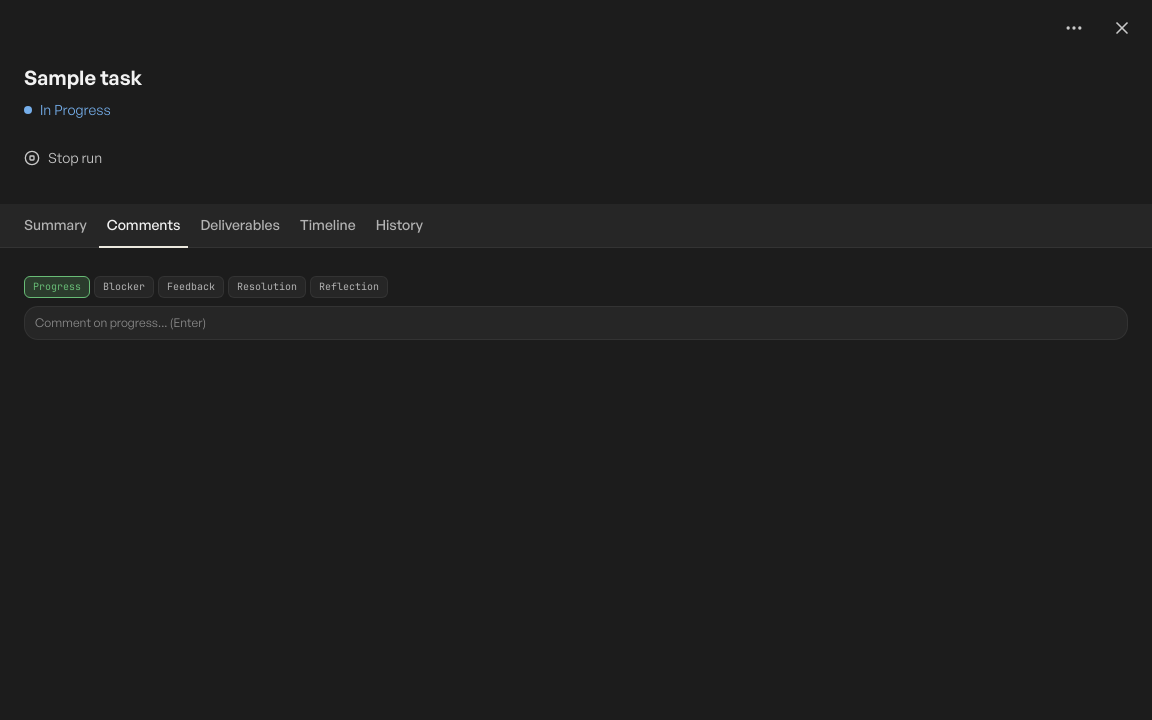
header variant A (DESIGN.md K12) › ⋯ Change status opens the Summary tab with the status menu open
This screenshot has width=1152, height=720.
Step 1. Click the button named "More actions" → (1074, 28), box left=1052, top=6, right=1096, bottom=50
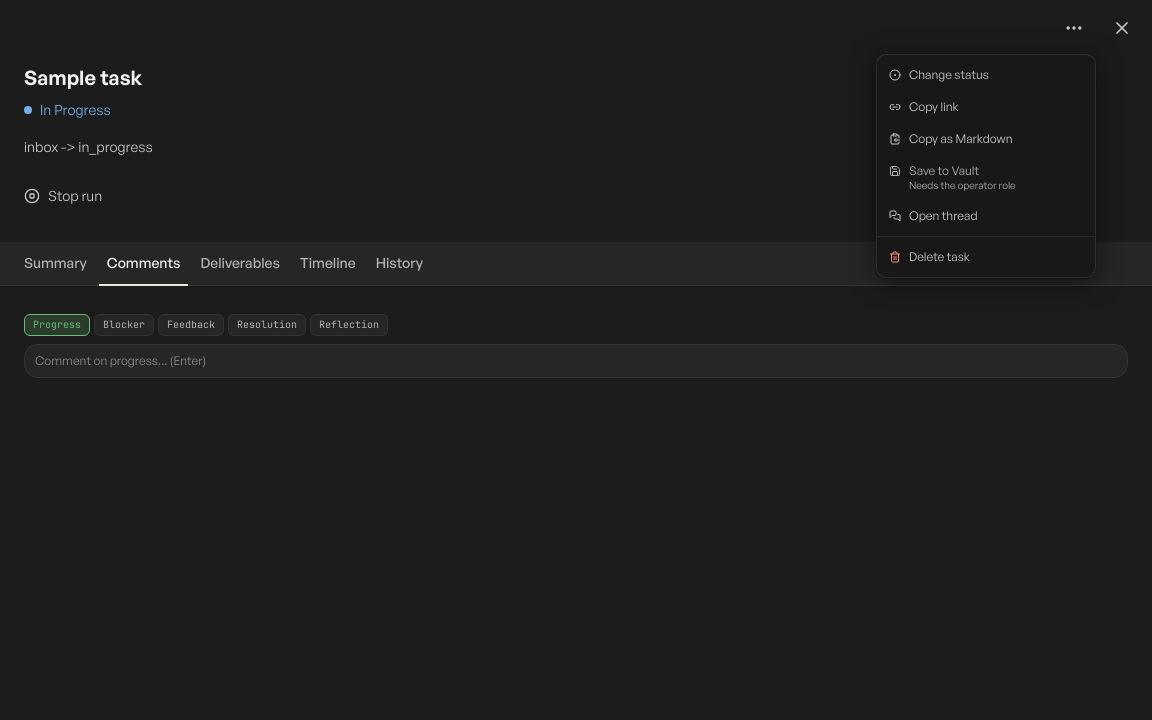
Step 2. Click the menu item "Change status" → (986, 74), box left=877, top=58, right=1095, bottom=90
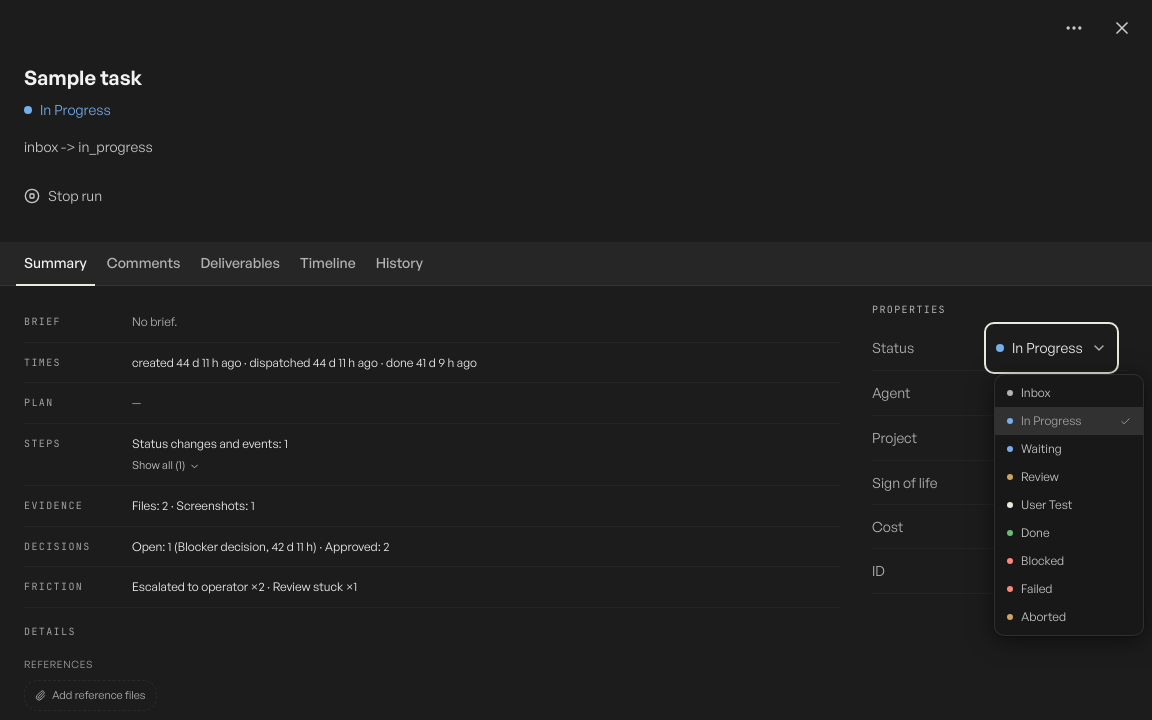
expect the menu item "Done" is shown: met, box left=995, top=519, right=1143, bottom=547
